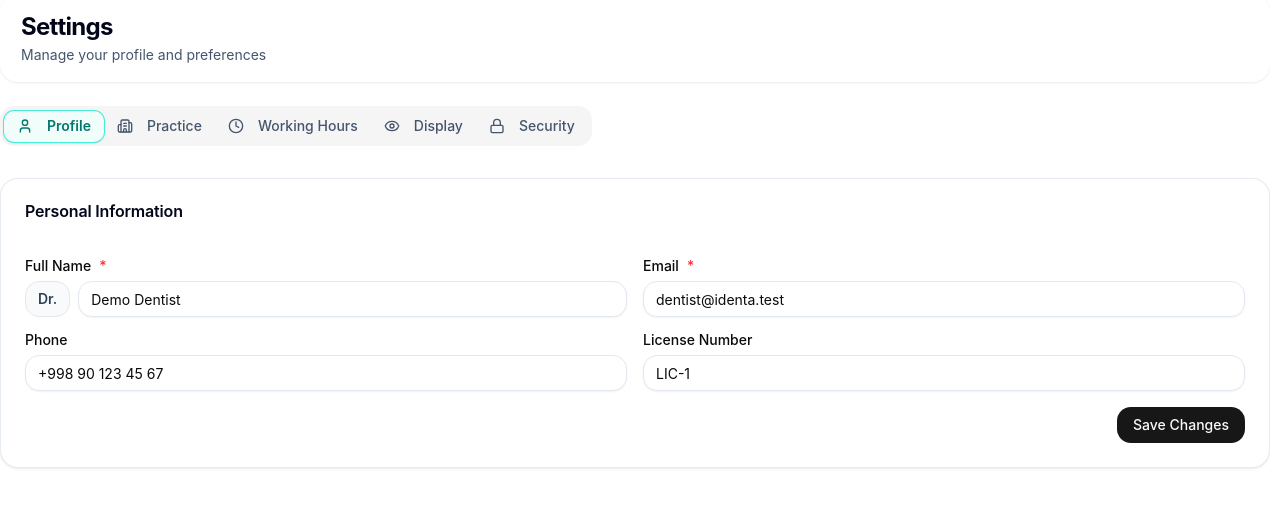
Test: SettingsPage › blocks a working-hours range whose end is not later than its start
The width and height of the screenshot is (1280, 530).
Click the tab "Working Hours": coordinates (293, 126) [215, 110, 371, 142]
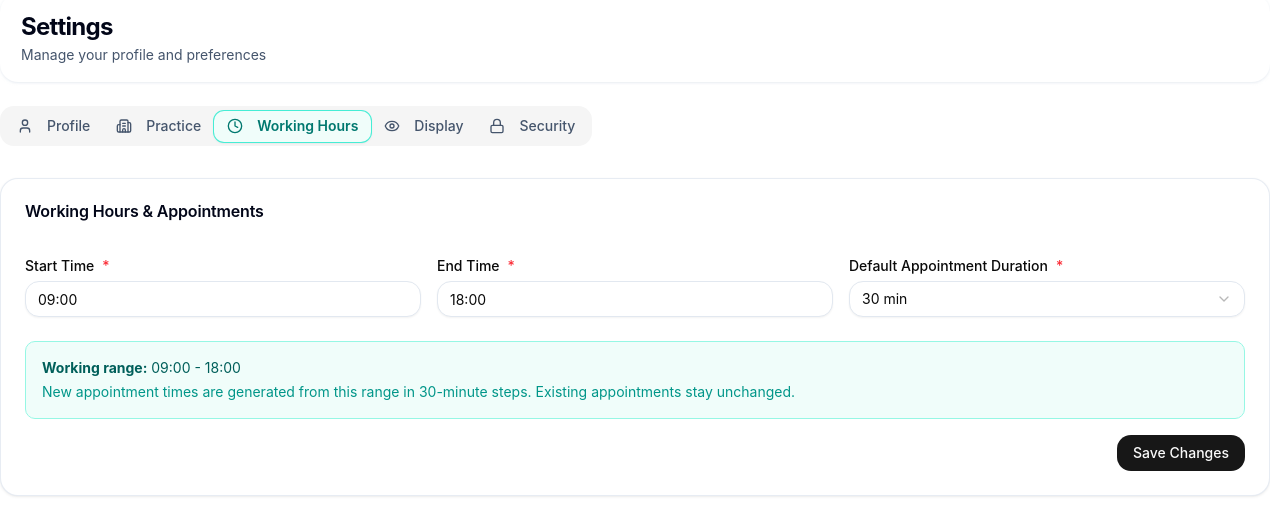
In the field labelled "Start Time *": coordinates (223, 299) [25, 281, 421, 317], type "19:00"
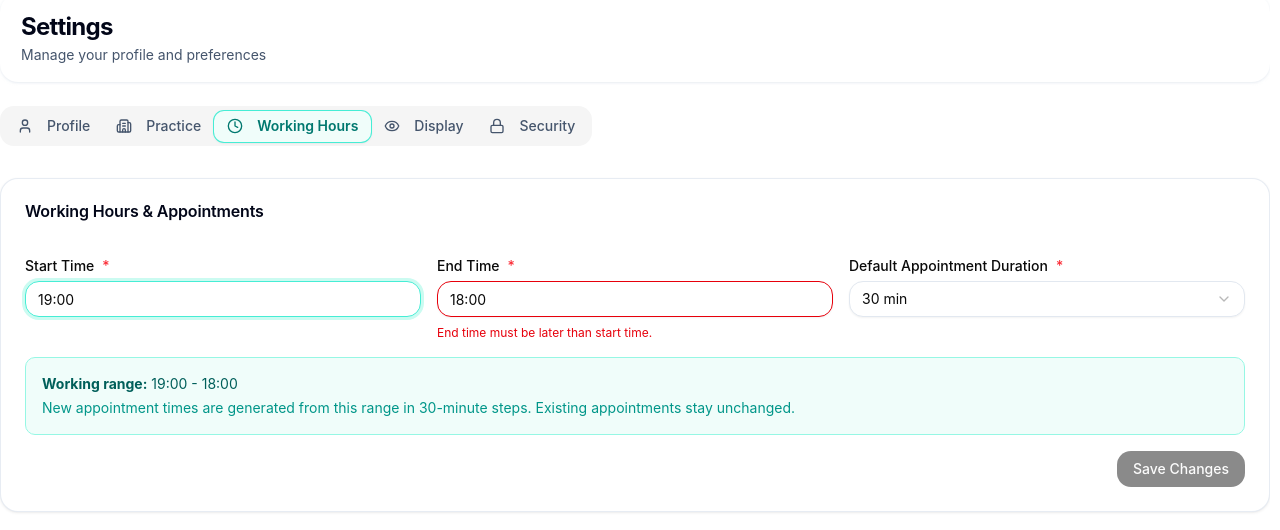
Expected: the button "Save Changes" is disabled, [1117, 451, 1245, 487]
Expected: the text "End time must be later than start time." is shown, [437, 325, 652, 340]
